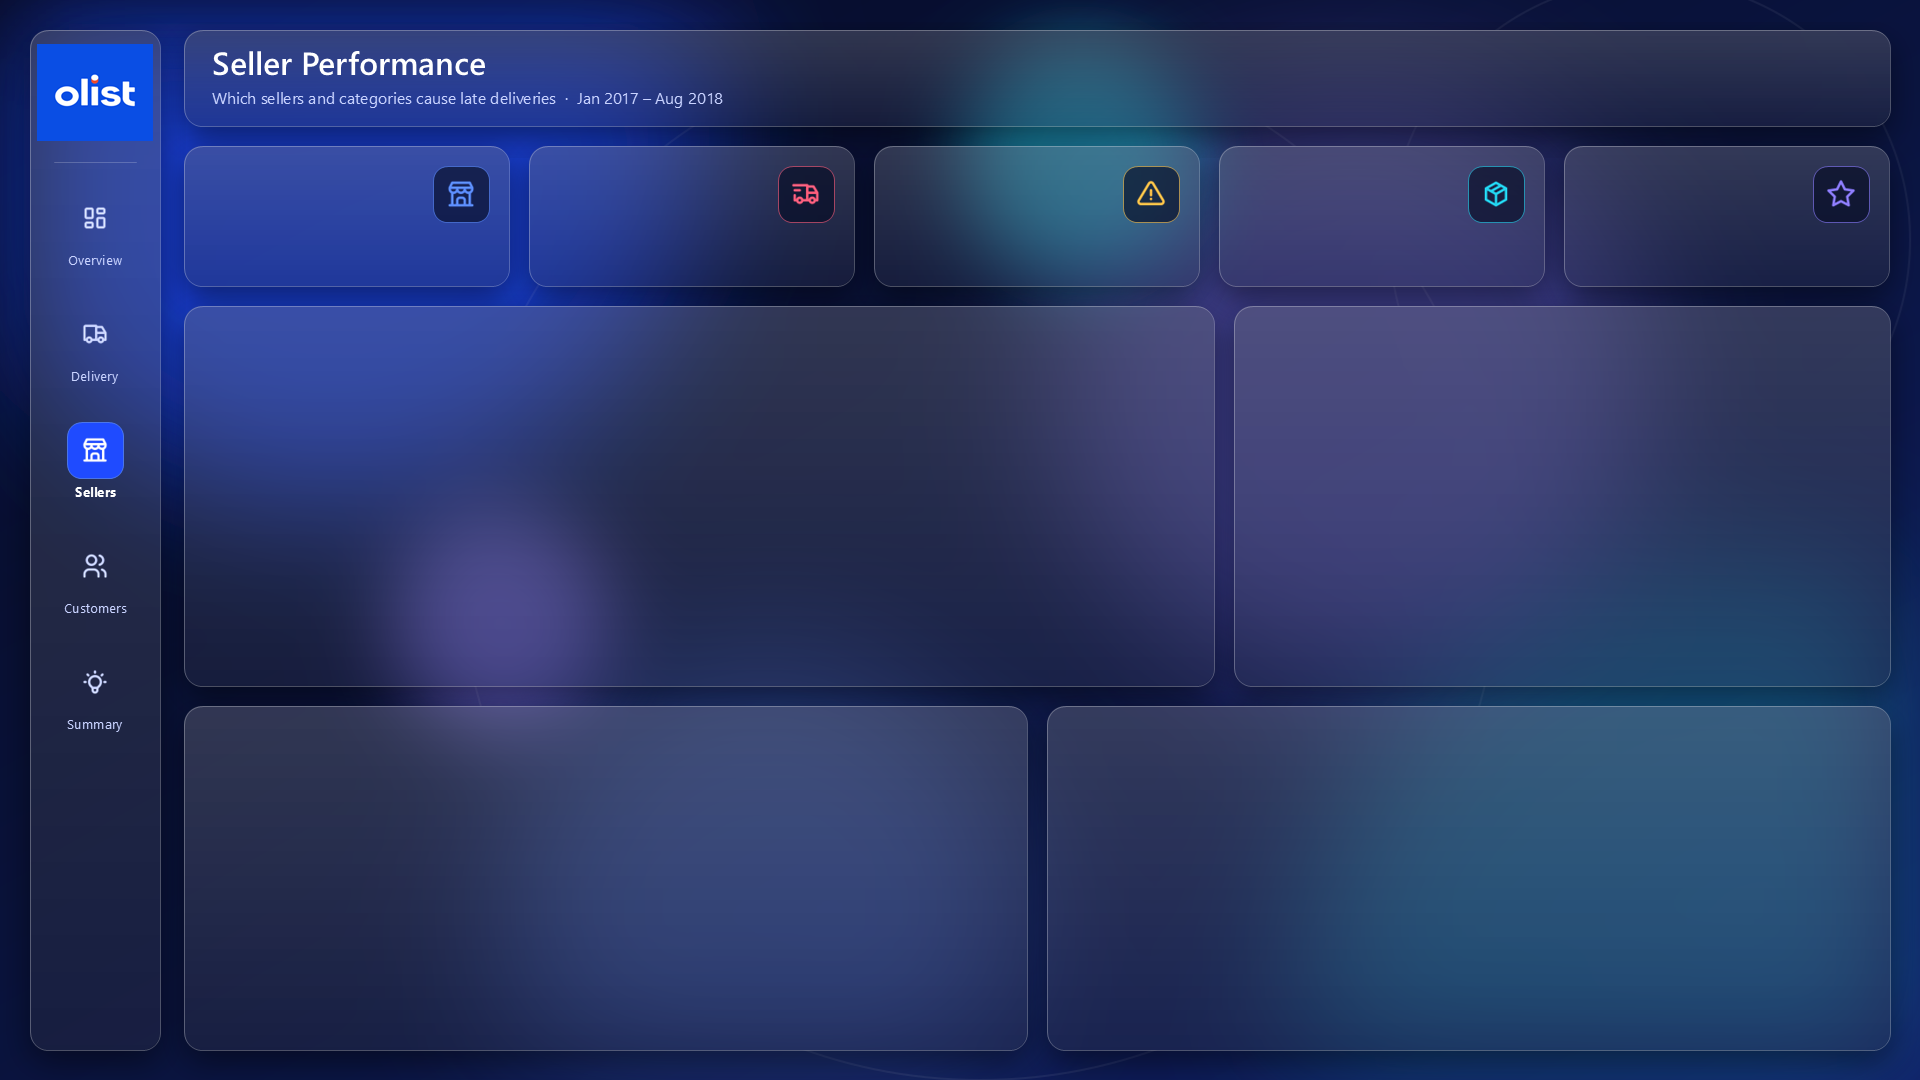

The page's visual inventory and layout, read from the dashboard file:
{"tool":"powerbi","page":{"name":"Sellers","canvas":[1920,1080],"ordinal":3},"visuals":[{"type":"cardVisual","fields":{"Data":["_Measures.Active Sellers Label"]},"box":[182.2,117,233.7,153.2],"z":0},{"type":"slicer","fields":{"Values":["Calendar.Year-Month"]},"box":[1563.1,39.3,313.8,80.5],"z":1000},{"type":"slicer","fields":{"Values":["Customers.customer_state"]},"box":[1140.5,38.9,315.4,79.9],"z":2000},{"type":"cardVisual","fields":{"Data":["_Measures.Seller Review Score"]},"box":[1559.5,118.8,248.4,153.4],"z":3000},{"type":"cardVisual","fields":{"Data":["_Measures.Items Sold"]},"box":[1216.1,118.8,216,153.4],"z":4000},{"type":"cardVisual","fields":{"Data":["_Measures.High-Risk Sellers"]},"box":[868.3,149,248.4,153.4],"z":5000},{"type":"cardVisual","fields":{"Data":["_Measures.Late Delivery % (Seller)"]},"box":[527.8,117,243.5,153.2],"z":6000},{"type":"actionButton","box":[51.8,302.4,82.1,82.1],"z":7000},{"type":"actionButton","box":[51.8,302.4,82.1,82.1],"z":8000},{"type":"actionButton","box":[51.8,185.8,82.1,82.1],"z":9000},{"type":"actionButton","box":[51.8,540,82.1,82.1],"z":10000},{"type":"actionButton","box":[51.8,302.4,82.1,82.1],"z":11000},{"type":"actionButton","box":[51.8,185.8,82.1,82.1],"z":12000},{"type":"actionButton","box":[51.8,540,82.1,82.1],"z":13000},{"type":"lineClusteredColumnComboChart","title":"Slow shippers cause late deliveries","fields":{"Category":["Orders.Handling Bucket"],"Y":["_Measures.Delivered Orders"],"Y2":["_Measures.Late Delivery %"]},"box":[181.4,302.4,1034.6,382.3],"z":13001},{"type":"tableEx","title":"Top sellers by revenue","fields":{"Values":["Sellers.Seller Code","Sellers.seller_city","Sellers.seller_state","_Measures.Seller Orders","_Measures.Seller Revenue","_Measures.Late Delivery % (Seller)","_Measures.Seller Review Score"]},"box":[1233.4,302.4,658.8,382.3],"z":13002},{"type":"scatterChart","title":"38 high-risk sellers stand out","fields":{"Category":["Sellers.Seller Code"],"X":["_Measures.Seller Orders"],"Y":["_Measures.Late Delivery % (Seller)"]},"box":[181.5,702.6,848.2,346],"z":13003},{"type":"lineClusteredColumnComboChart","title":"Late rates barely differ across top categories","fields":{"Category":["Products.Category"],"Y":["_Measures.Seller Revenue"],"Y2":["_Measures.Late Delivery % (Seller)"]},"box":[1046.5,702.6,846.1,346],"z":13004},{"type":"actionButton","box":[51.8,650.2,82.1,84.2],"z":13005}]}

Visuals, with their boxes on the page's 1920x1080 design canvas (x1, y1, x2, y2). These are canvas units, not pixel positions in the 1920x1080 screenshot, which may show the page scaled, cropped or inside an application window:
cardVisual - _Measures.Active Sellers Label: (182, 117, 416, 270)
slicer - Calendar.Year-Month: (1563, 39, 1877, 120)
slicer - Customers.customer_state: (1140, 39, 1456, 119)
cardVisual - _Measures.Seller Review Score: (1560, 119, 1808, 272)
cardVisual - _Measures.Items Sold: (1216, 119, 1432, 272)
cardVisual - _Measures.High-Risk Sellers: (868, 149, 1117, 302)
cardVisual - _Measures.Late Delivery % (Seller): (528, 117, 771, 270)
actionButton: (52, 302, 134, 384)
actionButton: (52, 302, 134, 384)
actionButton: (52, 186, 134, 268)
actionButton: (52, 540, 134, 622)
actionButton: (52, 302, 134, 384)
actionButton: (52, 186, 134, 268)
actionButton: (52, 540, 134, 622)
"Slow shippers cause late deliveries" lineClusteredColumnComboChart: (181, 302, 1216, 685)
"Top sellers by revenue" tableEx: (1233, 302, 1892, 685)
"38 high-risk sellers stand out" scatterChart: (182, 703, 1030, 1049)
"Late rates barely differ across top categories" lineClusteredColumnComboChart: (1046, 703, 1893, 1049)
actionButton: (52, 650, 134, 734)
